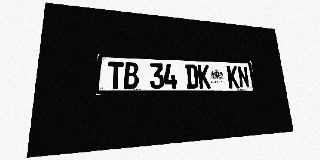3: (150, 63, 164, 89)
4: (163, 63, 177, 89)
B: (124, 62, 139, 89)
D: (185, 64, 199, 88)
K: (197, 65, 211, 88), (226, 66, 239, 88)
N: (237, 66, 250, 88)
T: (107, 61, 123, 89)
